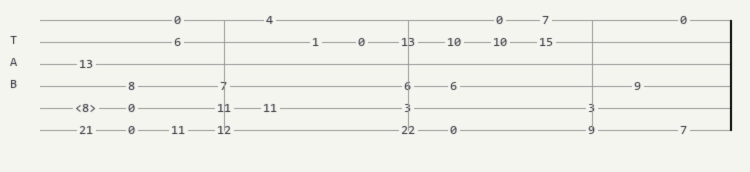0: (128, 124, 139, 136), (128, 102, 139, 114), (174, 14, 185, 26), (358, 36, 369, 48), (450, 124, 461, 136), (496, 14, 507, 26), (680, 14, 691, 26)
1: (312, 36, 323, 48)
10: (447, 36, 465, 48), (493, 36, 511, 48)
11: (171, 124, 189, 136), (217, 102, 235, 114), (263, 102, 281, 114)
12: (217, 124, 235, 136)
13: (79, 58, 97, 70), (401, 36, 419, 48)
15: (539, 36, 557, 48)
21: (79, 124, 97, 136)
22: (401, 124, 419, 136)
3: (404, 102, 415, 114), (588, 102, 599, 114)
4: (266, 14, 277, 26)
6: (174, 36, 185, 48), (404, 80, 415, 92), (450, 80, 461, 92)
7: (220, 80, 231, 92), (542, 14, 553, 26), (680, 124, 691, 136)
8: (128, 80, 139, 92)
9: (588, 124, 599, 136), (634, 80, 645, 92)
harmonic: (75, 102, 100, 114)
